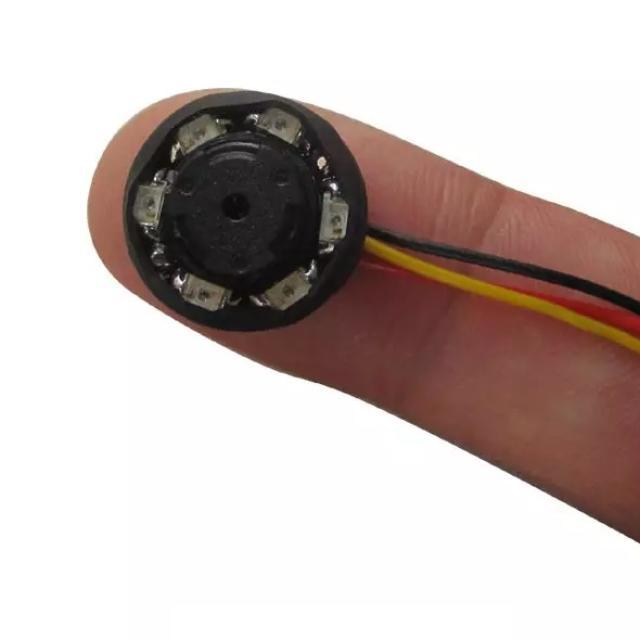hidden camera: (135, 87, 340, 324)
